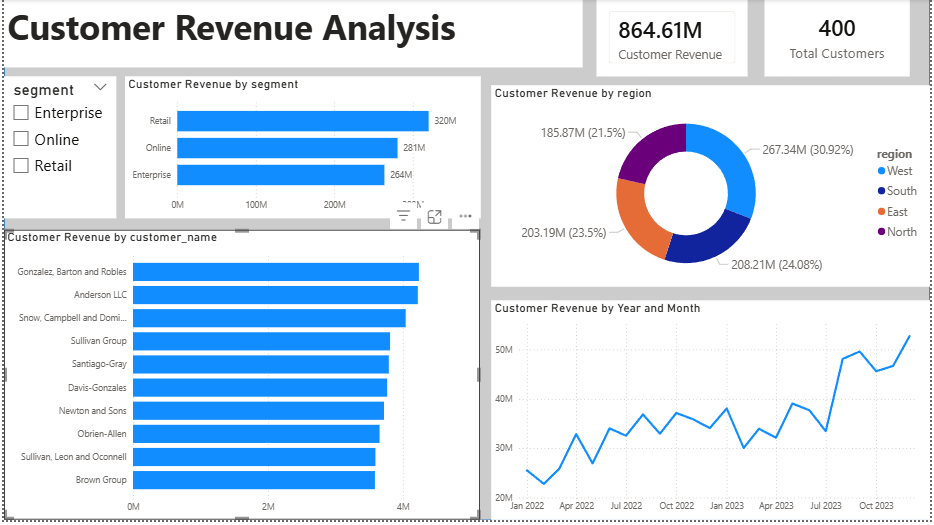

The dashboard page shown, as its layout file describes it:
{"tool":"powerbi","page":{"name":"Page 3","canvas":[1280,720],"ordinal":2},"visuals":[{"type":"shape","box":[0,0,1280,720],"z":0},{"type":"cardVisual","fields":{"Data":["clean_transactions.Customer Revenue"]},"box":[819.1,0,209,106.8],"z":1000},{"type":"cardVisual","fields":{"Data":["clean_transactions.Total Customers"]},"box":[1051.4,0,201.3,106.8],"z":2000},{"type":"barChart","fields":{"Category":["public customers.customer_name"],"Y":["clean_transactions.Customer Revenue"]},"box":[0,318.3,658.3,401.7],"z":3000},{"type":"donutChart","fields":{"Category":["public customers.region"],"Y":["clean_transactions.Customer Revenue"]},"box":[673.5,119.2,607,278.7],"z":4000},{"type":"barChart","fields":{"Category":["public customers.segment"],"Y":["clean_transactions.Customer Revenue"]},"box":[166.7,106.7,491.7,196.7],"z":5000},{"type":"lineChart","fields":{"Y":["clean_transactions.Customer Revenue"],"Category":["public financial_transaction.transaction_date.Variation.Date Hierarchy.Year","public financial_transaction.transaction_date.Variation.Date Hierarchy.Month"]},"box":[673.5,416.5,607,303.5],"z":6000},{"type":"slicer","fields":{"Values":["public customers.segment"]},"box":[0,106.7,155,196.7],"z":7000},{"type":"textbox","box":[0,0,800,95],"z":8000}]}

Visuals, with their boxes in screenshot pixels (x1, y1, x2, y2), scaled from the page's 1280x720 canvas onto the 934x525 screenshot:
shape: [x1=0, y1=0, x2=933, y2=524]
cardVisual - clean_transactions.Customer Revenue: [x1=598, y1=0, x2=750, y2=78]
cardVisual - clean_transactions.Total Customers: [x1=767, y1=0, x2=914, y2=78]
barChart - public customers.customer_name x clean_transactions.Customer Revenue: [x1=0, y1=232, x2=480, y2=524]
donutChart - public customers.region x clean_transactions.Customer Revenue: [x1=491, y1=87, x2=933, y2=290]
barChart - public customers.segment x clean_transactions.Customer Revenue: [x1=122, y1=78, x2=480, y2=221]
lineChart - clean_transactions.Customer Revenue x public financial_transaction.transaction_date.Variation.Date Hierarchy.Year: [x1=491, y1=304, x2=933, y2=524]
slicer - public customers.segment: [x1=0, y1=78, x2=113, y2=221]
textbox: [x1=0, y1=0, x2=584, y2=69]
